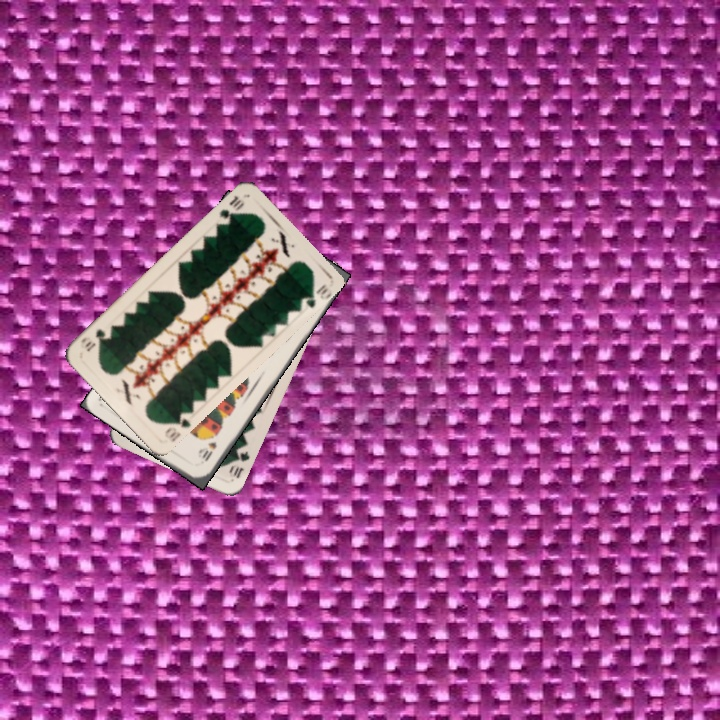G10: (215, 191, 247, 227), (160, 408, 192, 443), (229, 447, 252, 481)
S10: (198, 438, 219, 464)
